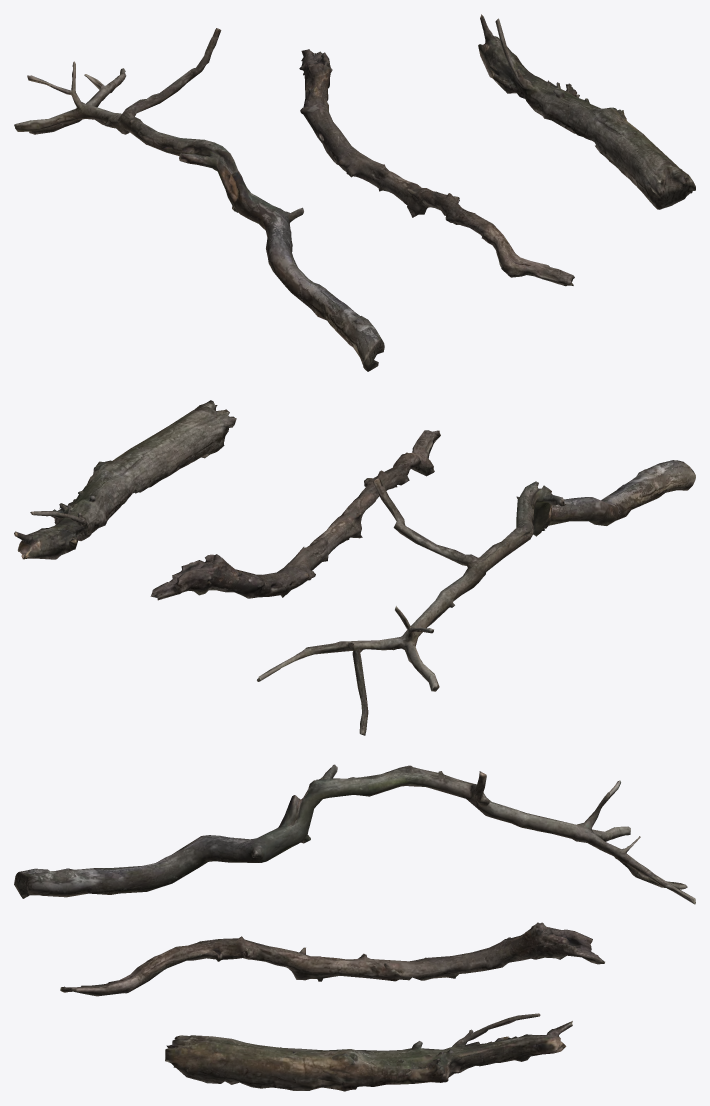
The model's file is branches_dry.glb.
3 renders of one model, top to bottom at view 1: azimuth 30°, elevation 25°; view 2: azimuth 150°, elevation 25°; view 3: azimuth 270°, elevation 25°, orthographic. The views are drawn at different scales.
Visible parts, largest first — view 1: dry_branches_medium_01_a, dry_branches_medium_01_c, dry_branches_medium_01_b; view 2: dry_branches_medium_01_a, dry_branches_medium_01_c, dry_branches_medium_01_b; view 3: dry_branches_medium_01_a, dry_branches_medium_01_c, dry_branches_medium_01_b.
Boxes of the visible parts, box(x1,y1,x2,y2) form: dry_branches_medium_01_a: box(14, 28, 384, 371); dry_branches_medium_01_c: box(478, 14, 695, 209); dry_branches_medium_01_b: box(299, 49, 574, 286); dry_branches_medium_01_a: box(257, 460, 695, 735); dry_branches_medium_01_c: box(14, 400, 236, 559); dry_branches_medium_01_b: box(150, 430, 440, 600); dry_branches_medium_01_a: box(14, 764, 695, 904); dry_branches_medium_01_c: box(165, 1013, 572, 1091); dry_branches_medium_01_b: box(60, 922, 604, 996).
Bounding box in the file's own units: 1.06 × 0.341 × 1.3.
Materials: 1 (1 with a texture image).
